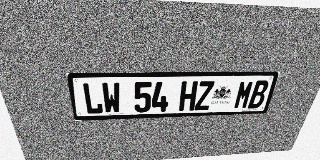4: (152, 82, 170, 112)
5: (134, 82, 152, 113)
B: (247, 80, 270, 108)
H: (179, 81, 198, 111)
L: (81, 82, 104, 114)
M: (233, 80, 255, 109)
W: (101, 82, 121, 114)
Z: (194, 81, 215, 110)
